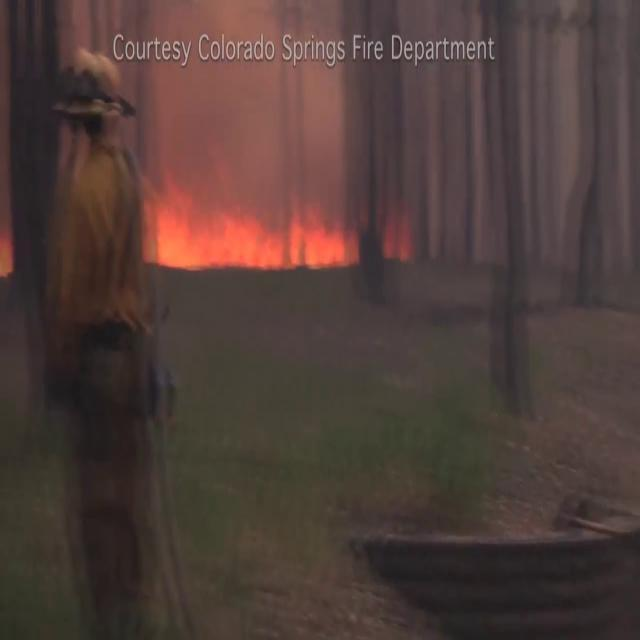Fire: (140, 169, 361, 273)
